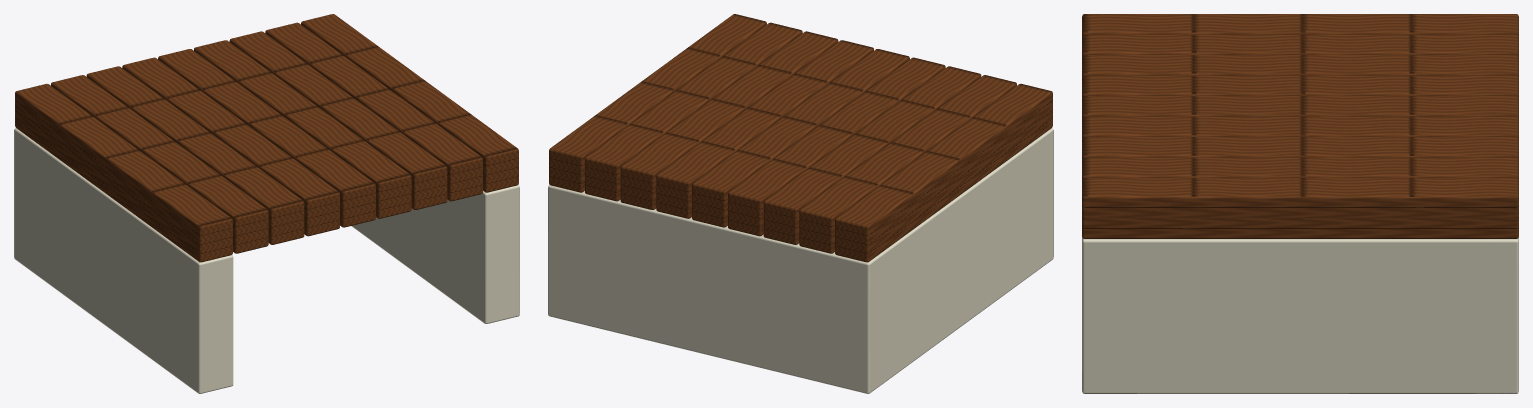
The model's file is modular-survival-base-builder-retaining-foundation-9548dc2e__24142.glb.
The picture shows the model from 3 angles, left to right: view 1: azimuth 30°, elevation 25°; view 2: azimuth 150°, elevation 25°; view 3: azimuth 270°, elevation 25°; orthographic projection. The views are drawn at different scales.
Visible parts, largest first — view 1: retaining-foundation; view 2: retaining-foundation; view 3: retaining-foundation.
Boxes of the visible parts, x1=… form: retaining-foundation: x1=14, y1=14, x2=519, y2=393; retaining-foundation: x1=548, y1=14, x2=1053, y2=393; retaining-foundation: x1=1082, y1=14, x2=1518, y2=393.
Bounding box in the file's own units: 2 × 0.9999 × 2.
2 materials, 1 textured.
